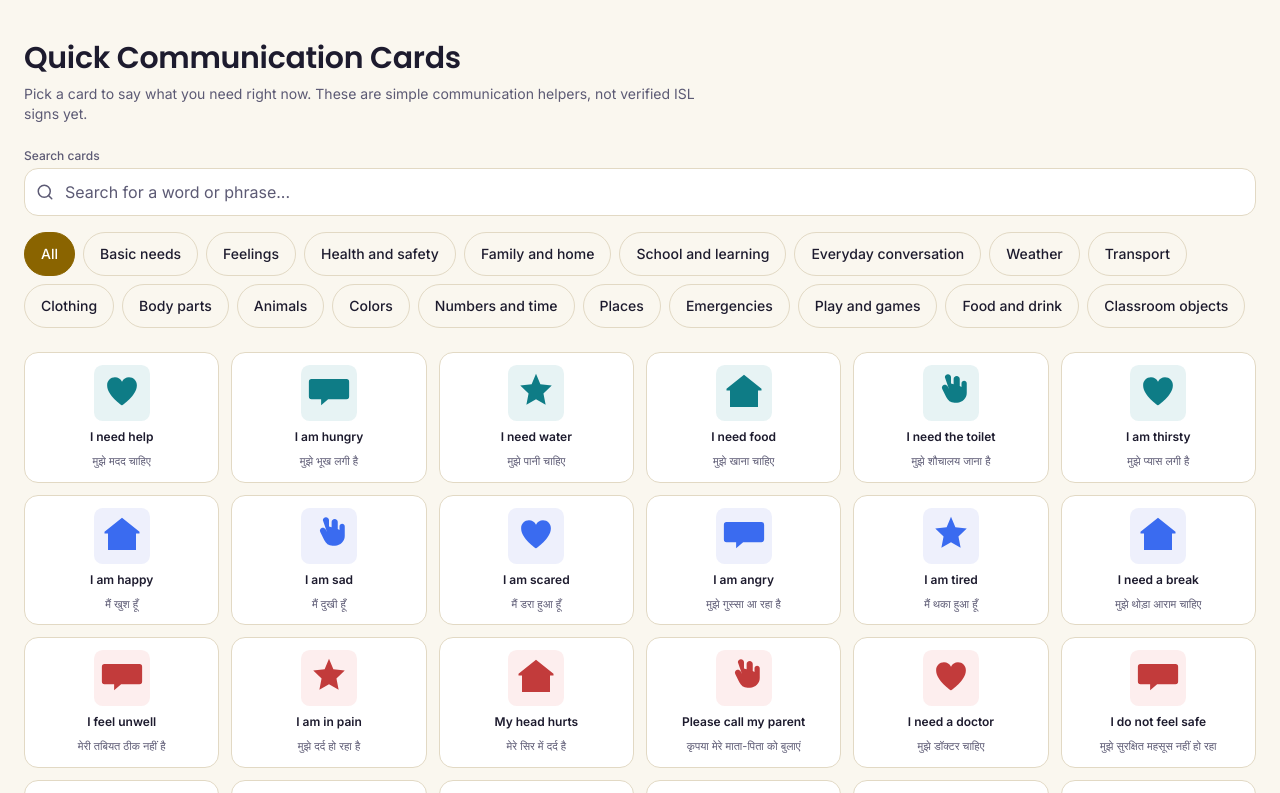
Test case: CardsClient › shows an empty state when no cards match the search
In the field labelled "Search cards": (640, 192) [24, 168, 1256, 216], type "zzzzznotaword"
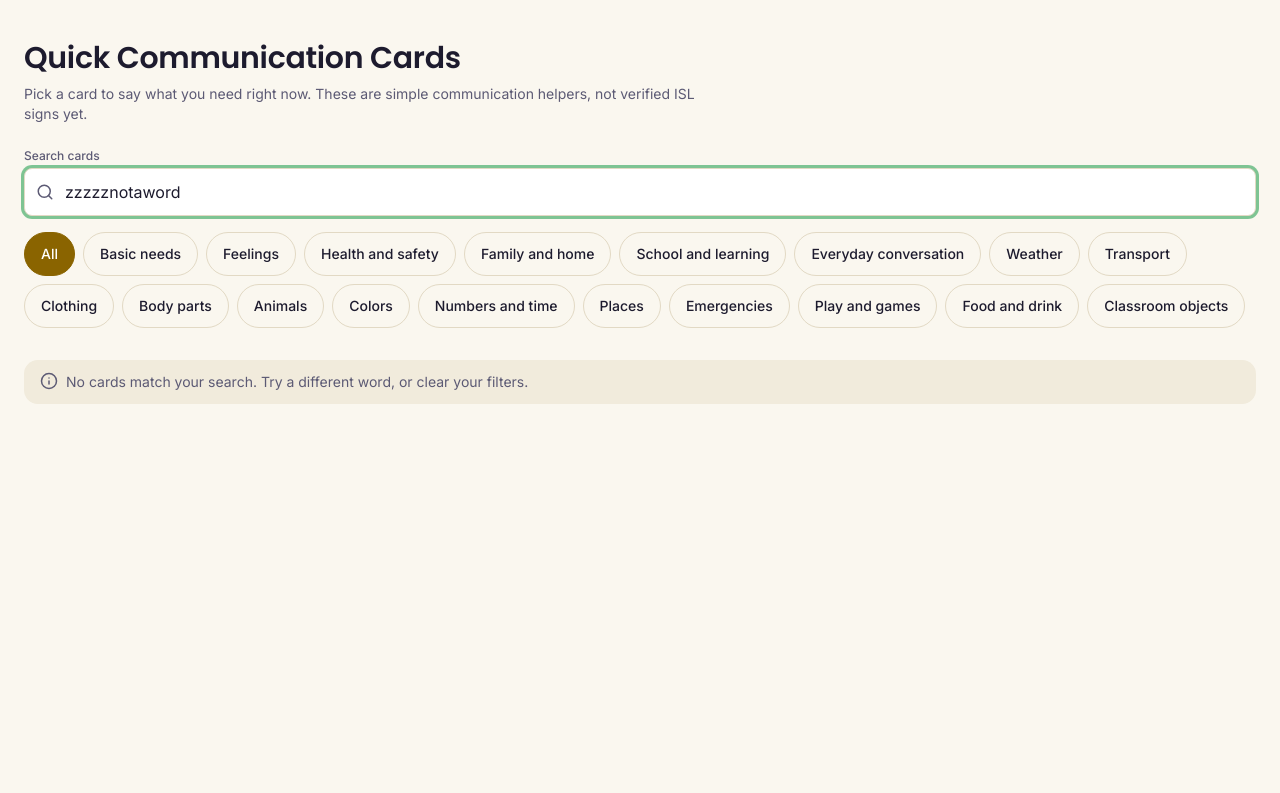
Expected: the text "No cards match your search" is shown, [66, 373, 528, 390]
